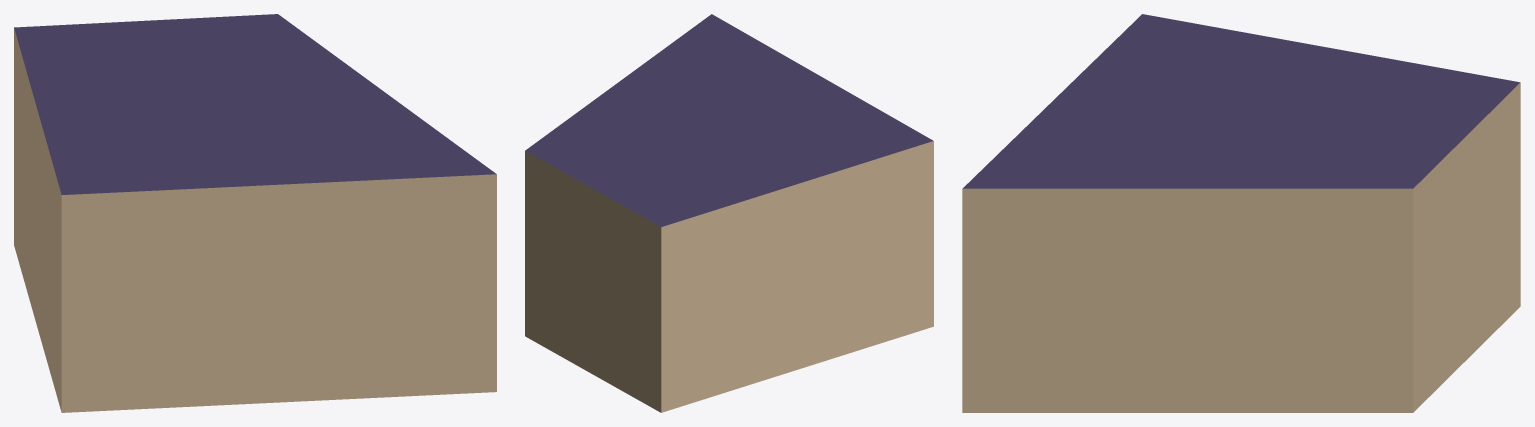
The picture shows the model from 3 angles, left to right: view 1: azimuth 30°, elevation 25°; view 2: azimuth 150°, elevation 25°; view 3: azimuth 270°, elevation 25°; orthographic projection. The views are drawn at different scales.
Visible parts, largest first — view 1: campus/b-122-0; view 2: campus/b-122-0; view 3: campus/b-122-0.
Part boxes in pixels (x1,y1,x2,y2): campus/b-122-0: [14, 14, 496, 412]; campus/b-122-0: [525, 14, 933, 412]; campus/b-122-0: [962, 14, 1520, 412].
Bounding box in the file's own units: 5.01 × 3 × 6.77.
